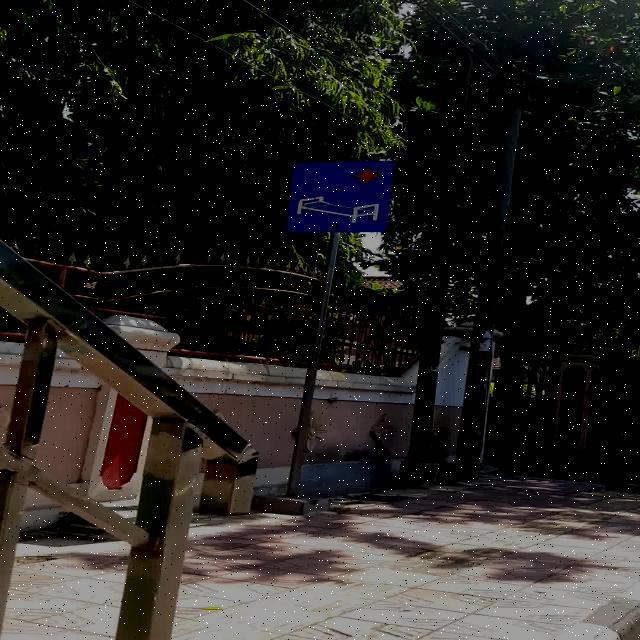Rumah Sakit: (284, 161, 394, 232)
